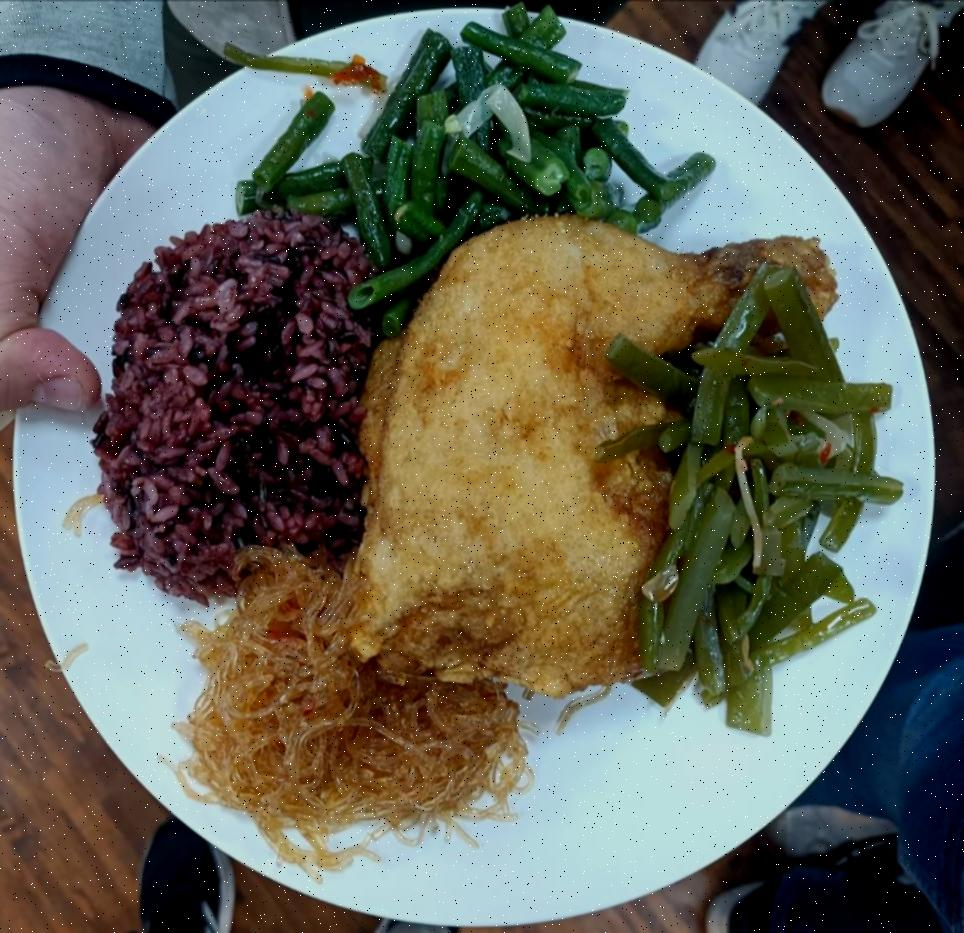big fried chicken leg: (346, 222, 842, 689)
plate: (7, 11, 950, 924)
purple rice: (92, 212, 394, 584)
side dish: (230, 21, 712, 310), (610, 278, 887, 732), (179, 547, 523, 850)
